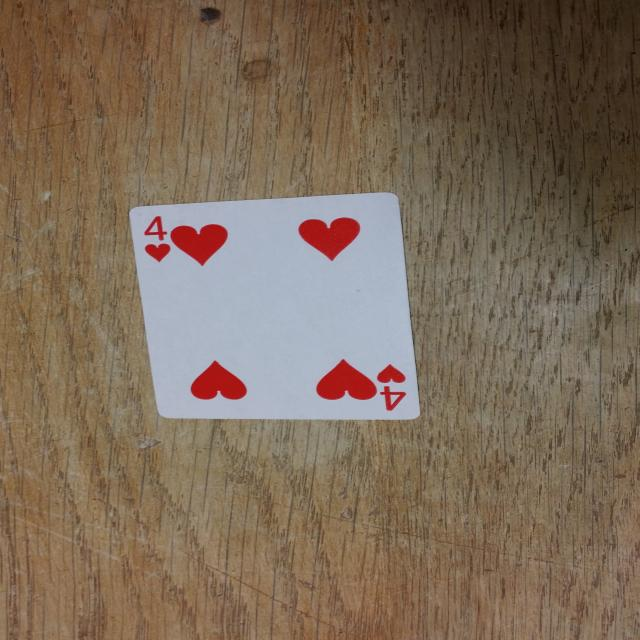4h: (352, 358, 426, 421), (128, 212, 184, 268)
